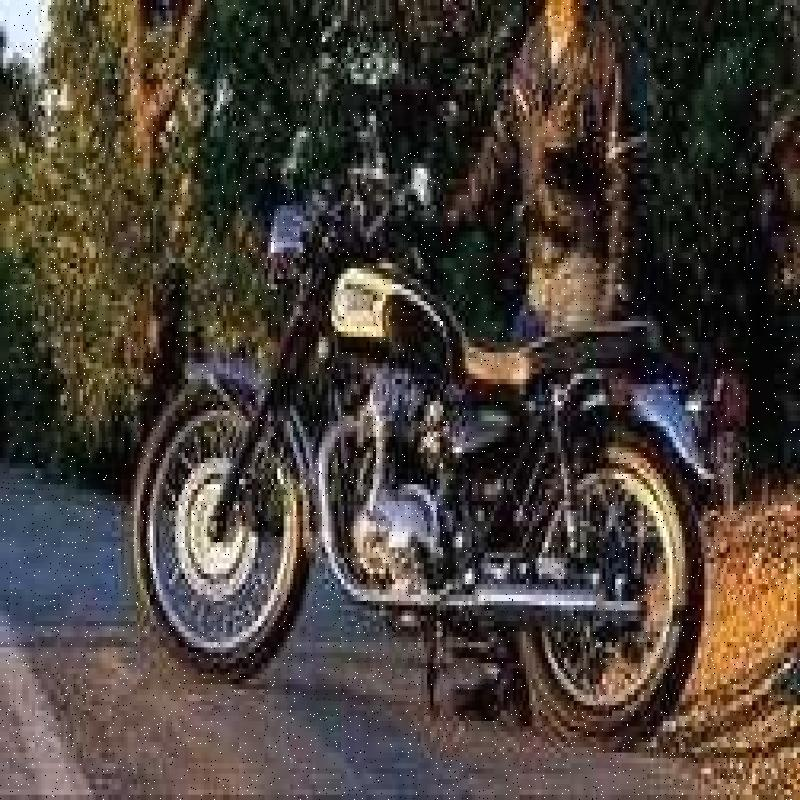bike: (130, 111, 702, 762)
